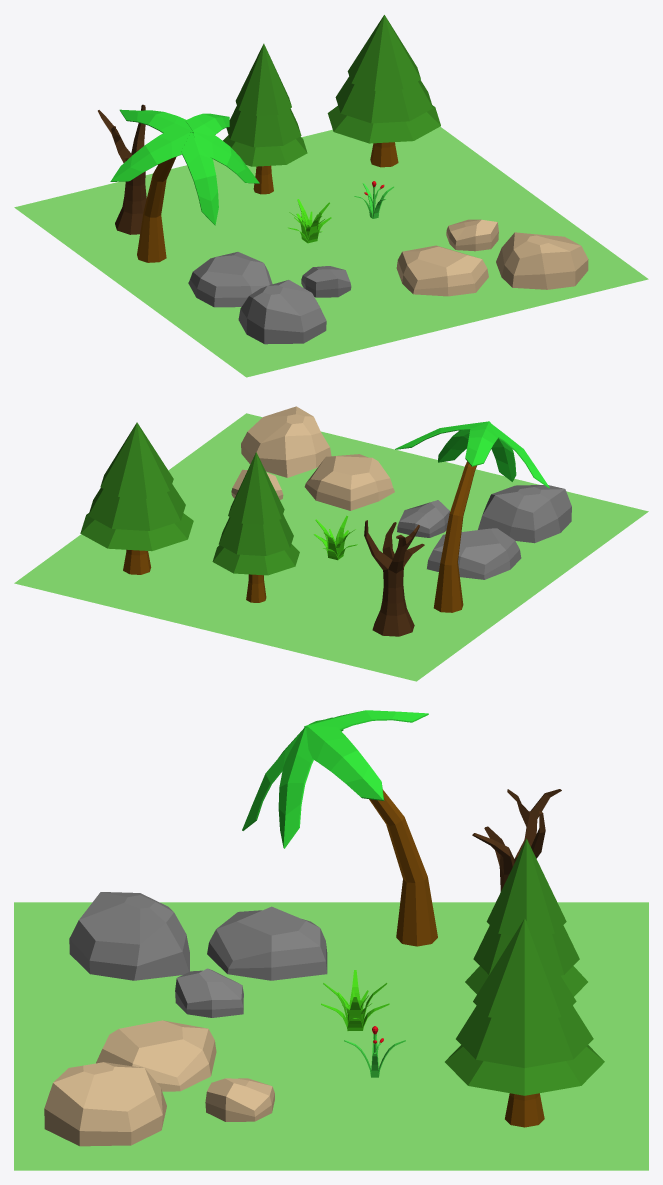
Rendered from A_LowPolyAsset1.fbx.
3 renders of one model, top to bottom at view 1: azimuth 30°, elevation 25°; view 2: azimuth 150°, elevation 25°; view 3: azimuth 270°, elevation 25°, orthographic. The views are drawn at different scales.
Visible parts, largest first — view 1: Ground, Tree2, Tree1, Tree3, SandRock2, Rock2, SandRock1, Rock1, DriedTree, SandRock3, Rock3, Fern; view 2: Ground, Tree2, Tree3, Tree1, SandRock2, Rock2, SandRock1, DriedTree, Rock1, Rock3, Fern; view 3: Ground, Tree2, Tree1, Rock2, SandRock2, Tree3, Rock1, SandRock1, Rock3, SandRock3, DriedTree, Fern.
Boxes of the visible parts, x1,y1,x2,y2 form: Ground: (14, 126, 648, 377); Tree2: (327, 15, 440, 167); Tree1: (110, 109, 259, 262); Tree3: (223, 43, 307, 194); SandRock2: (496, 232, 588, 289); Rock2: (238, 280, 326, 344); SandRock1: (396, 245, 488, 296); Rock1: (188, 252, 272, 307); DriedTree: (98, 104, 146, 234); SandRock3: (446, 219, 498, 251); Rock3: (301, 266, 351, 297); Fern: (288, 199, 331, 243); Ground: (14, 413, 648, 681); Tree2: (80, 422, 193, 574); Tree3: (212, 452, 299, 602); Tree1: (395, 421, 549, 612); SandRock2: (241, 406, 331, 477); Rock2: (478, 485, 571, 543); SandRock1: (304, 454, 394, 510); DriedTree: (364, 520, 424, 636); Rock1: (427, 528, 521, 579); Rock3: (397, 500, 449, 537); Fern: (314, 515, 357, 560); Ground: (14, 902, 648, 1170); Tree2: (445, 918, 604, 1127); Tree1: (242, 710, 437, 946); Rock2: (69, 892, 189, 980); SandRock2: (44, 1062, 166, 1146); Tree3: (465, 838, 587, 996); Rock1: (207, 906, 327, 980); SandRock1: (96, 1020, 216, 1091); Rock3: (175, 968, 243, 1017); SandRock3: (205, 1078, 274, 1121); DriedTree: (472, 789, 561, 891); Fern: (321, 970, 389, 1030).
Size of the model in its own units: 797 by 289 by 762.
